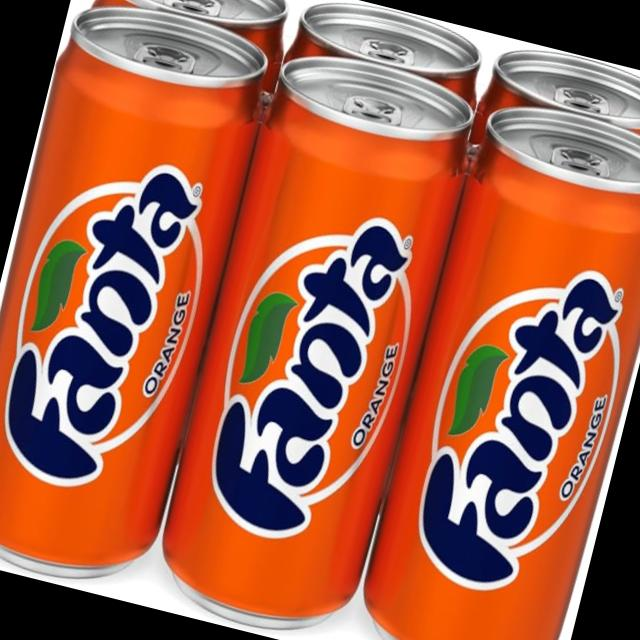fanta: (139, 47, 488, 640), (0, 0, 279, 598), (350, 97, 640, 640)
